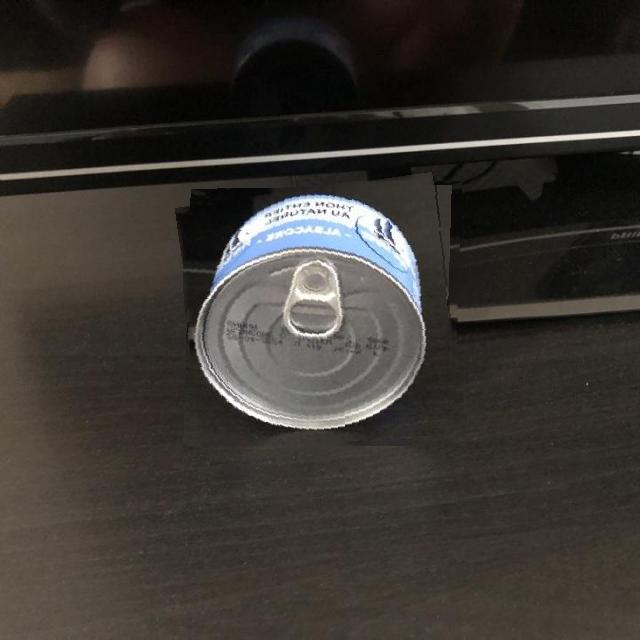recyclable: (183, 181, 462, 457)
